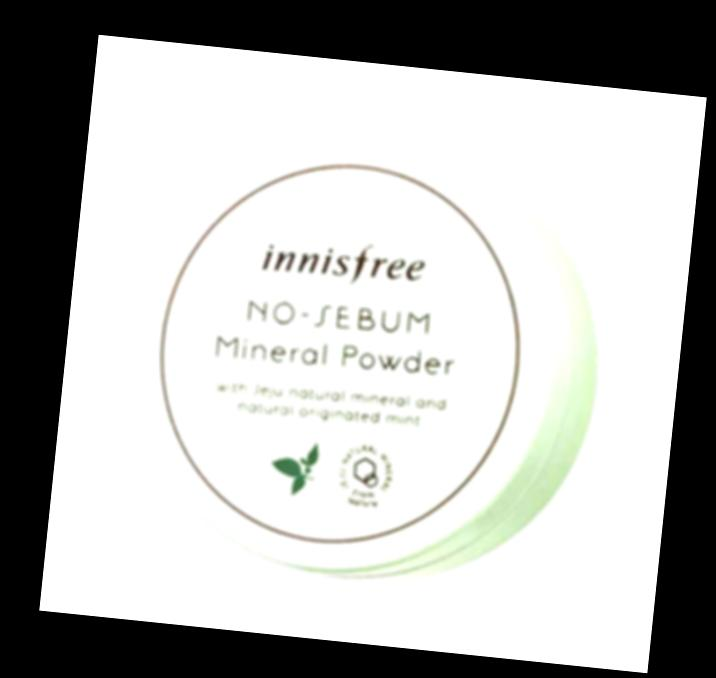cosmetic: (122, 121, 609, 592)
